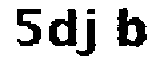5: (12, 5, 44, 49)
b: (109, 4, 149, 52)
d: (46, 6, 80, 48)
j: (78, 5, 100, 60)
